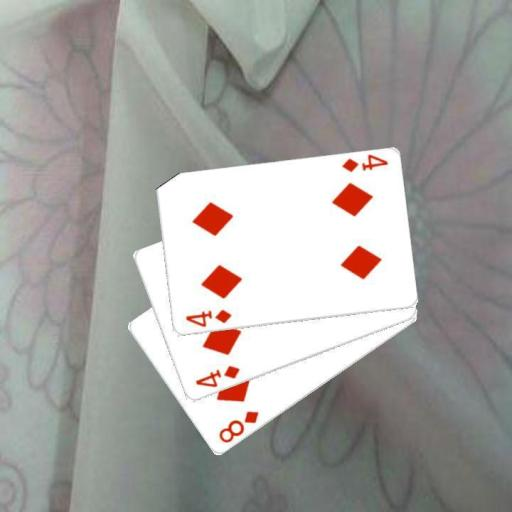card-corner: (216, 408, 260, 445), (192, 362, 241, 390), (182, 306, 233, 328), (338, 152, 389, 174)
